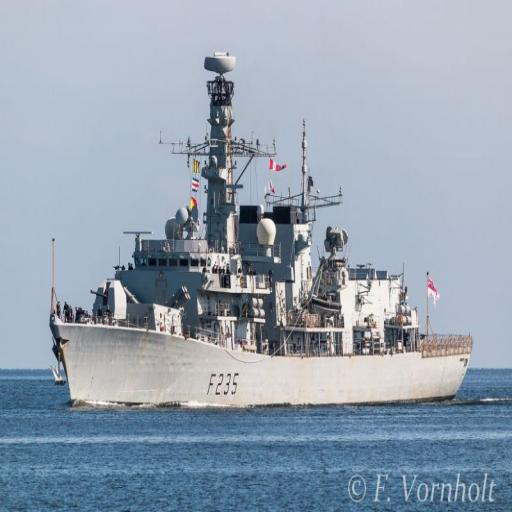Fragata: (49, 44, 479, 411)
